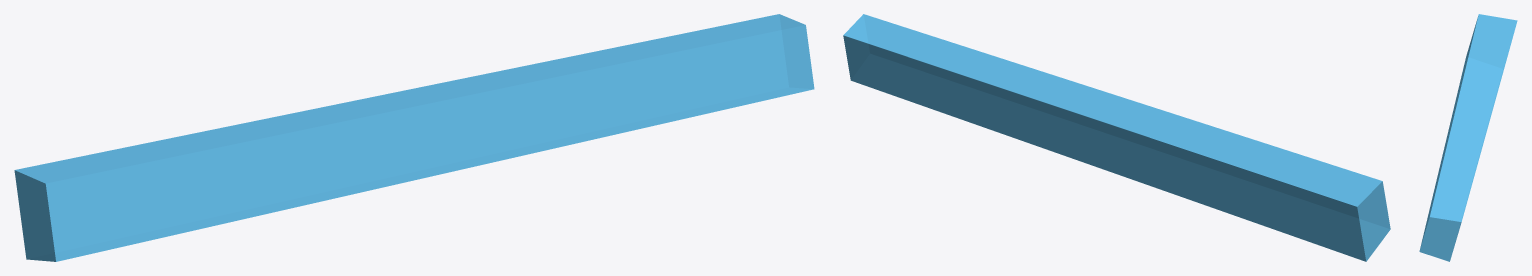
The model's file is Event_421115418_HErechit_36.fbx.
The picture shows the model from 3 angles, left to right: view 1: azimuth 30°, elevation 25°; view 2: azimuth 150°, elevation 25°; view 3: azimuth 270°, elevation 25°; orthographic projection. The views are drawn at different scales.
Parts seen in each view (by area): view 1: Model; view 2: Model; view 3: Model.
Part boxes in pixels (x1,y1,x2,y2): Model: [14, 14, 814, 261]; Model: [843, 14, 1390, 261]; Model: [1419, 14, 1517, 261].
Size of the model in its own units: 2.22 by 0.3066 by 0.4364.
